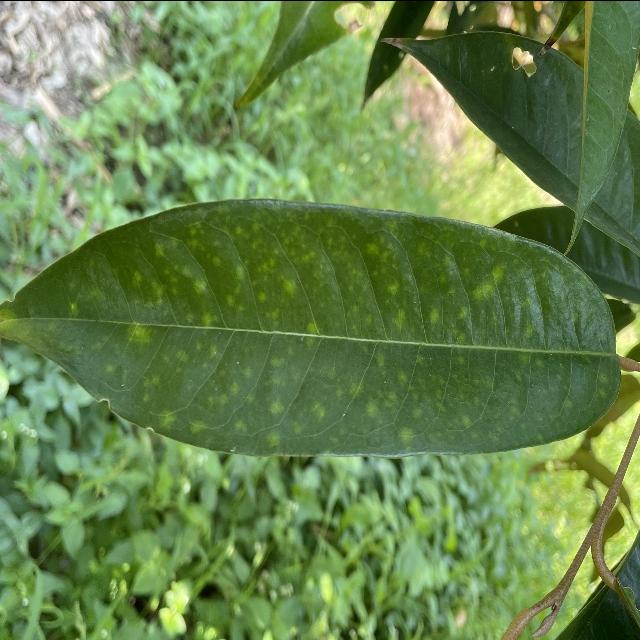Leaf Spot: (0, 197, 627, 466)
